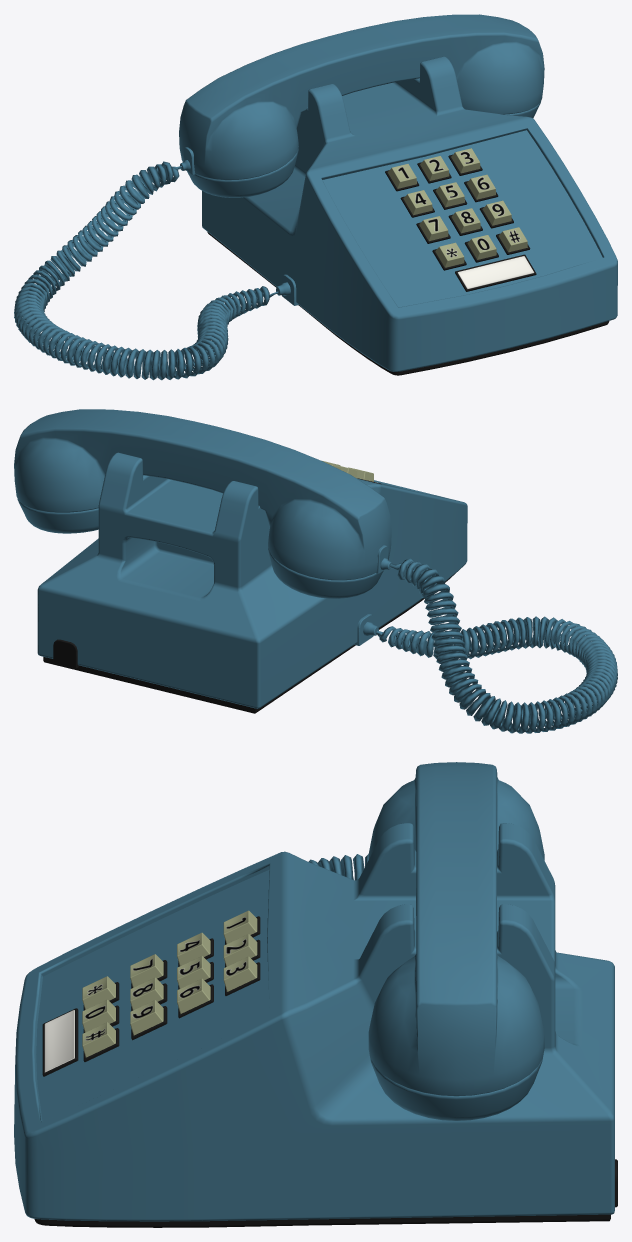
The model's file is phone.glb.
3 views of the same model, one above another, from view 1: azimuth 30°, elevation 25°; view 2: azimuth 150°, elevation 25°; view 3: azimuth 270°, elevation 25° (orthographic). The views are drawn at different scales.
Parts seen in each view (by area): view 1: Cube, Cube.001, BezierCircle, Cube.011, Cube.010, Cube.017, Cube.007, Cube.008, Cube.016, Cube.004, Cube.015, Cube.003 (+4 smaller); view 2: Cube, Cube.001, BezierCircle, Cube.014, Cube.012; view 3: Cube, Cube.001, Cube.011, Cube.008, Cube.005, Cube.015, Cube.002, BezierCircle, Cube.010, Cube.007, Cube.017, Cube.004 (+4 smaller).
Boxes of the visible parts, x1,y1,x2,y2 form: Cube: (202,56,617,375); Cube.001: (179,14,544,197); BezierCircle: (14,161,278,380); Cube.011: (455,254,536,291); Cube.010: (432,242,466,270); Cube.017: (385,164,419,191); Cube.007: (416,216,450,243); Cube.008: (496,227,530,254); Cube.016: (417,156,451,183); Cube.004: (400,190,434,217); Cube.015: (448,148,482,175); Cube.003: (433,182,467,209); Cube: (37,452,467,713); Cube.001: (14,409,391,598); BezierCircle: (376,558,617,733); Cube.014: (53,639,78,668); Cube.012: (354,614,378,645); Cube: (14,823,614,1227); Cube.001: (368,762,544,1120); Cube.011: (42,1008,78,1076); Cube.008: (82,1022,119,1061); Cube.005: (130,1000,167,1040); Cube.015: (223,956,260,995); Cube.002: (177,978,213,1018); BezierCircle: (308,854,368,880); Cube.010: (82,976,119,1010); Cube.007: (130,954,167,988); Cube.017: (223,910,260,944); Cube.004: (177,932,213,966).
Size of the model in its own units: 42.49 by 15.93 by 28.14.
Materials: 4 (1 with a texture image).
